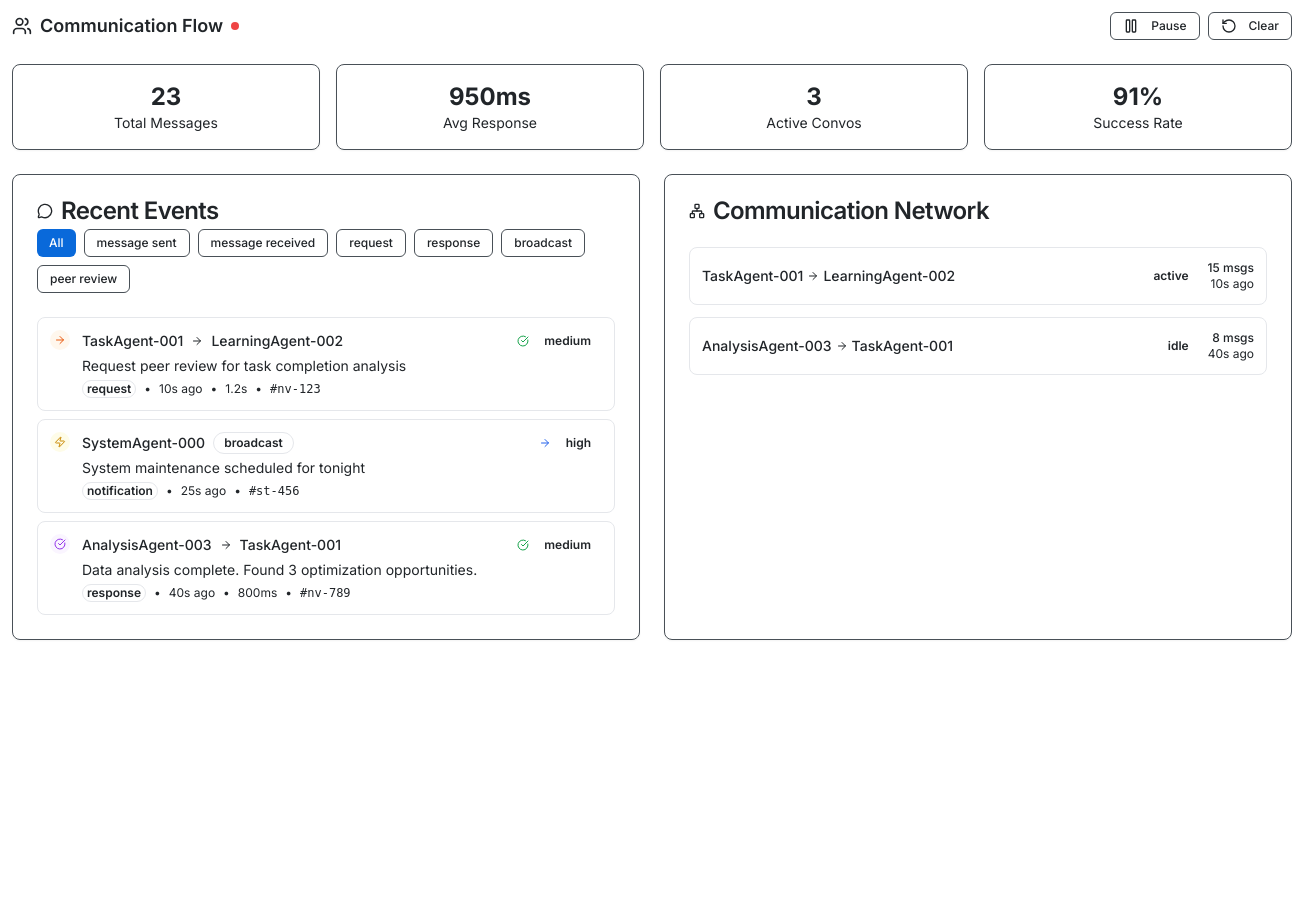
Scenario: CommunicationFlow › toggles pause/resume functionality
What coordinates should you click on to do the following:
click the button "Pause"
I would click on:
 (1155, 26)
Its box is [1110,12,1200,40].
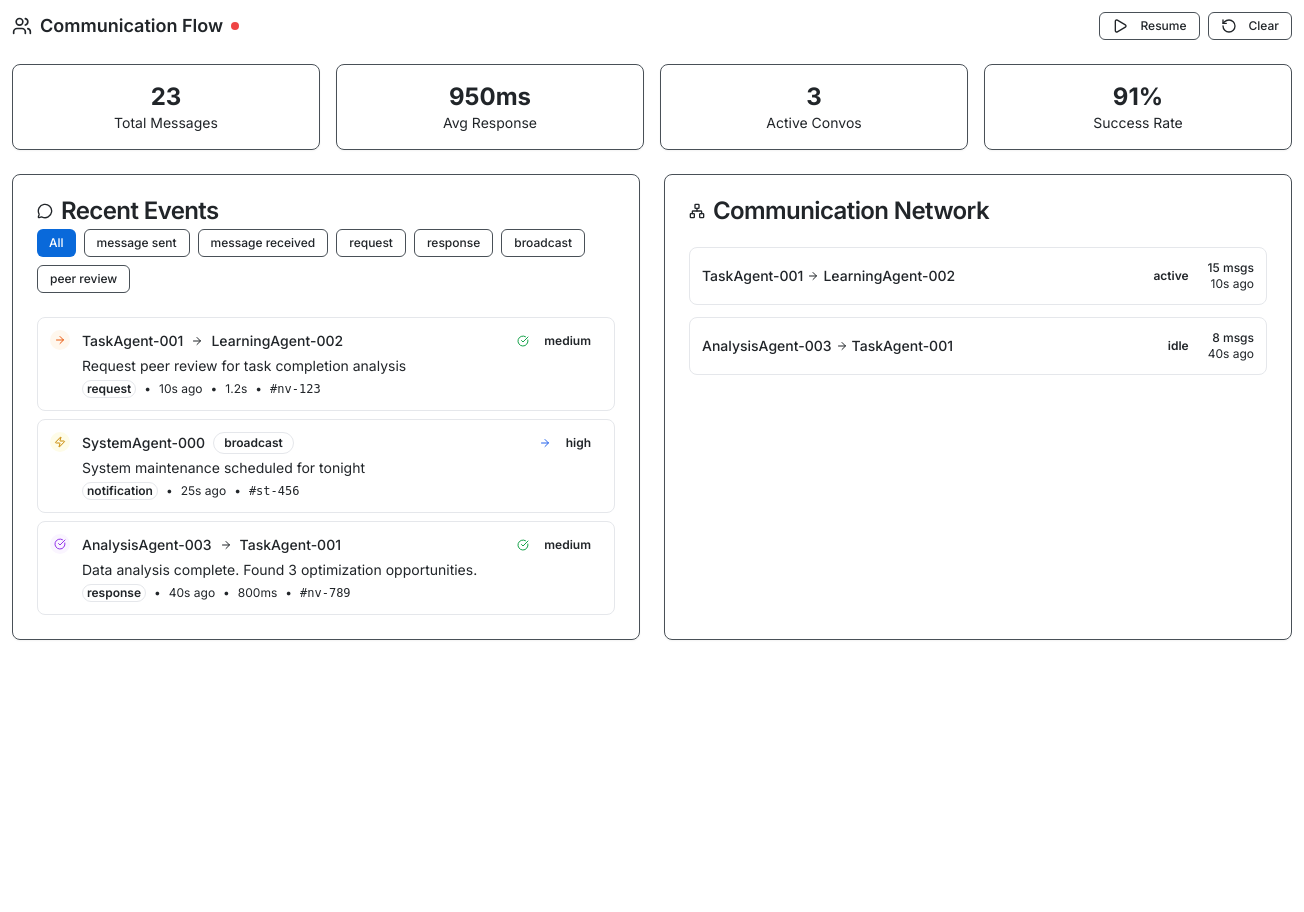
Expected: the button "Resume" is shown, [1100,12,1200,40]
